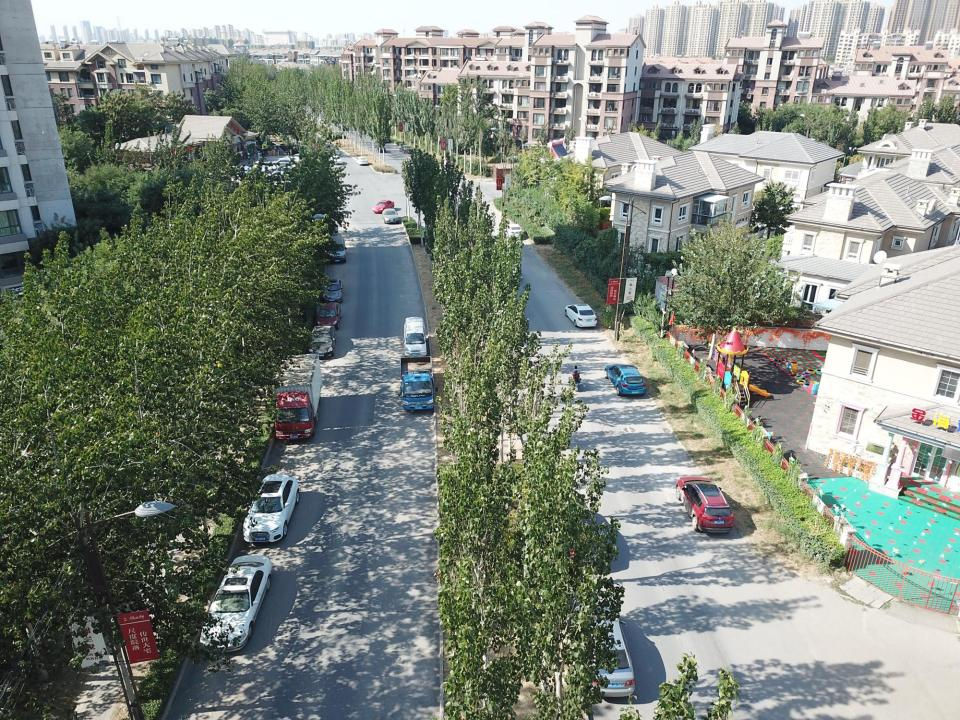car: (197, 552, 276, 654), (243, 470, 302, 548), (585, 616, 638, 700), (674, 475, 737, 538), (604, 363, 646, 398), (403, 315, 430, 357), (310, 324, 337, 362), (565, 304, 600, 331), (316, 302, 344, 327), (322, 277, 346, 306), (325, 234, 346, 266), (373, 198, 395, 214), (381, 207, 401, 224), (507, 222, 522, 238), (330, 155, 342, 165), (357, 156, 366, 164)
truck: (270, 354, 322, 444), (397, 356, 437, 417)
